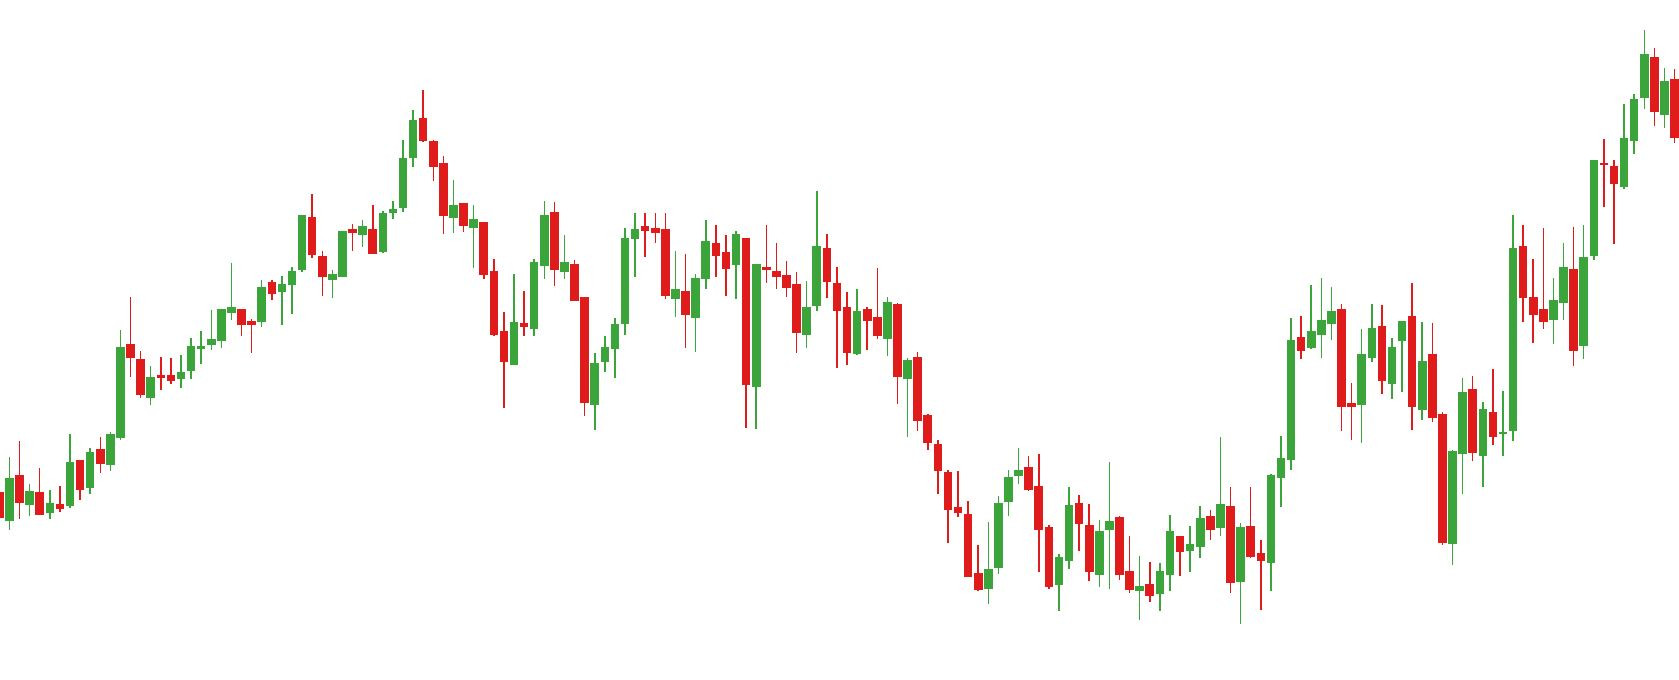buy: (497, 289, 603, 437), (975, 519, 1064, 620)
sell: (762, 185, 831, 320)
